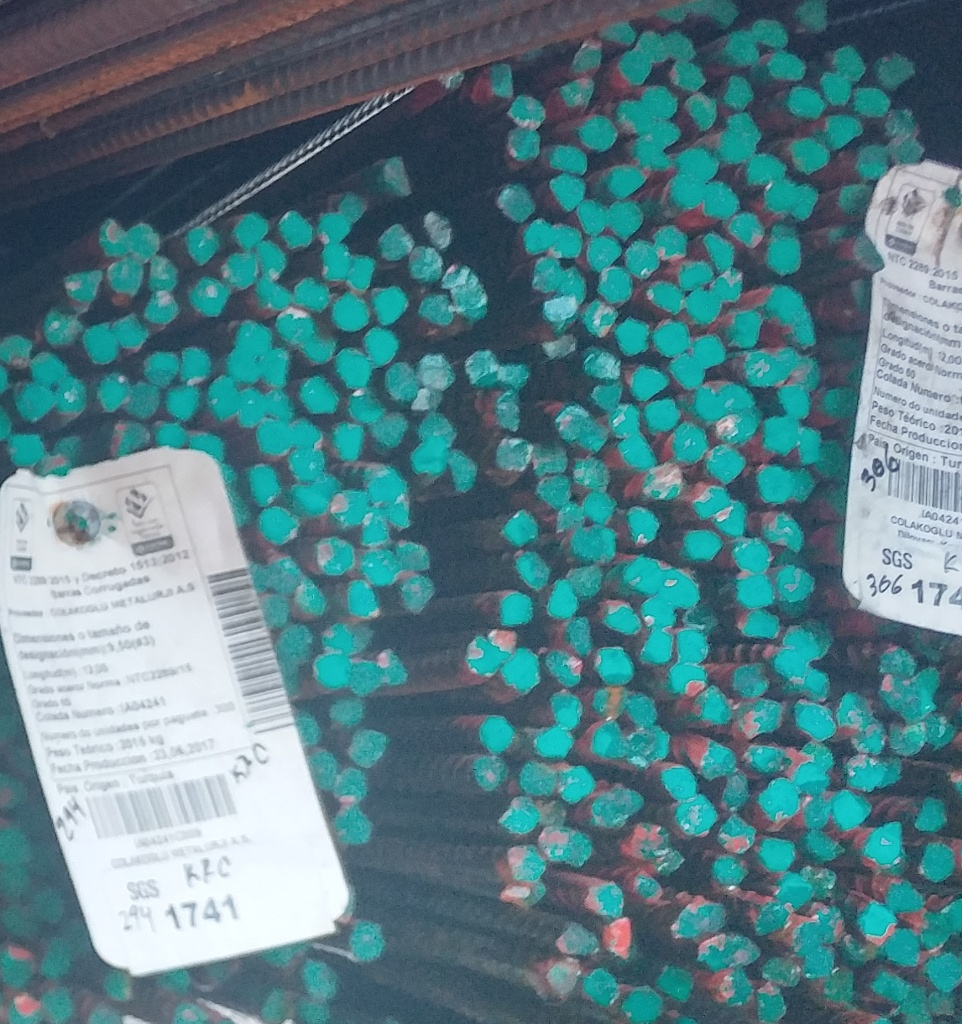dipstick: (313, 536, 359, 579), (861, 825, 903, 869), (654, 570, 702, 608), (674, 796, 718, 837), (912, 840, 954, 882), (377, 158, 418, 201), (626, 726, 672, 764), (758, 778, 800, 819), (622, 554, 662, 597), (255, 508, 298, 548), (761, 951, 804, 990), (1, 941, 38, 986), (345, 386, 386, 426), (885, 715, 926, 755), (843, 755, 884, 795), (829, 791, 869, 832), (573, 527, 615, 566), (589, 791, 628, 833), (464, 639, 502, 682), (301, 372, 339, 415), (599, 597, 642, 635), (658, 763, 698, 803), (707, 444, 746, 485), (530, 251, 568, 293), (717, 815, 759, 853), (670, 424, 707, 467), (740, 699, 784, 735), (547, 691, 586, 731), (837, 697, 876, 737), (733, 572, 774, 610), (276, 625, 314, 666), (286, 708, 321, 752), (584, 881, 623, 920), (302, 749, 341, 788), (361, 548, 401, 586), (289, 583, 327, 623), (358, 329, 398, 367), (186, 278, 227, 315), (794, 702, 836, 738), (926, 950, 962, 992), (23, 351, 73, 381), (81, 325, 119, 364), (376, 496, 414, 535), (508, 846, 547, 884), (372, 286, 411, 324), (759, 835, 797, 874), (285, 444, 325, 481), (502, 125, 543, 161), (13, 384, 55, 419), (668, 658, 706, 696), (343, 583, 381, 621), (49, 379, 87, 417), (572, 456, 611, 493), (593, 648, 632, 685), (64, 271, 103, 308), (397, 575, 436, 612), (688, 603, 727, 640), (333, 808, 373, 844), (28, 838, 64, 878), (686, 480, 726, 516), (512, 554, 552, 590), (412, 289, 452, 325), (488, 393, 523, 434), (763, 415, 800, 453), (503, 652, 541, 689), (346, 923, 383, 961), (1, 903, 38, 941), (497, 590, 535, 627), (504, 511, 542, 548), (912, 798, 949, 836), (749, 986, 787, 1023), (415, 438, 451, 477), (684, 524, 719, 564), (684, 91, 719, 131), (596, 269, 636, 304), (711, 775, 751, 810), (656, 965, 697, 999), (485, 59, 518, 101), (580, 301, 617, 338), (185, 228, 221, 266), (443, 454, 479, 492), (620, 433, 658, 469), (38, 940, 76, 976), (543, 962, 581, 998), (875, 53, 913, 89), (461, 352, 499, 388), (330, 423, 365, 462), (347, 731, 386, 766), (454, 284, 489, 323), (586, 965, 617, 1009), (507, 94, 547, 128), (588, 726, 628, 760), (709, 855, 749, 889), (567, 418, 608, 451), (616, 103, 657, 136), (849, 722, 890, 755), (323, 621, 365, 653), (719, 132, 761, 164), (291, 484, 327, 521), (334, 491, 370, 528), (885, 880, 921, 917), (106, 258, 143, 294), (857, 906, 895, 941), (302, 963, 340, 998), (626, 507, 661, 545), (628, 364, 666, 399), (757, 464, 792, 502), (364, 469, 403, 503), (557, 760, 591, 799), (752, 15, 791, 49), (19, 797, 53, 836), (644, 467, 683, 501), (417, 355, 456, 389), (1, 824, 32, 866), (258, 588, 289, 630), (126, 383, 162, 419), (372, 413, 408, 449), (820, 970, 856, 1006), (764, 237, 801, 272), (914, 912, 949, 949), (793, 136, 830, 171), (767, 512, 802, 549), (699, 688, 734, 725), (739, 351, 777, 385), (715, 967, 753, 1001), (825, 114, 864, 147), (41, 310, 80, 343), (621, 991, 660, 1024), (306, 324, 338, 364), (1, 862, 33, 902), (732, 537, 772, 569), (739, 609, 779, 641), (629, 822, 669, 854), (496, 438, 532, 473), (333, 295, 368, 331), (791, 86, 827, 121), (802, 863, 838, 898), (855, 145, 891, 180), (838, 182, 873, 218), (409, 250, 445, 285), (384, 361, 419, 397), (690, 333, 726, 368), (644, 395, 679, 431), (557, 923, 594, 957), (478, 718, 512, 755), (614, 318, 648, 355), (777, 565, 815, 598), (6, 434, 44, 467), (603, 167, 641, 200), (280, 213, 312, 252), (829, 49, 868, 81), (713, 499, 745, 538), (165, 385, 204, 417), (669, 59, 708, 91), (261, 346, 289, 390), (854, 235, 884, 276), (858, 609, 899, 639), (624, 240, 659, 275), (606, 918, 641, 953), (592, 686, 627, 721), (246, 468, 280, 504), (522, 760, 556, 796), (889, 134, 925, 168), (115, 317, 151, 351), (532, 797, 569, 830), (540, 828, 573, 865), (885, 929, 918, 966), (249, 242, 286, 275), (727, 215, 765, 247), (225, 349, 263, 381), (376, 230, 415, 261), (700, 744, 739, 775), (233, 322, 273, 352), (644, 282, 684, 312), (314, 656, 349, 690), (145, 292, 180, 326), (321, 250, 355, 285), (543, 291, 577, 326), (499, 187, 534, 221), (728, 313, 762, 348), (607, 399, 641, 434), (699, 936, 733, 971), (696, 1, 737, 30), (702, 232, 735, 268), (582, 493, 618, 526), (551, 146, 587, 179), (257, 424, 293, 457), (262, 988, 299, 1020), (535, 477, 572, 509), (395, 540, 432, 572), (469, 759, 507, 790), (871, 755, 909, 786), (792, 426, 822, 465), (765, 175, 795, 214), (111, 421, 151, 450), (900, 687, 934, 721), (548, 655, 583, 688), (854, 84, 889, 117), (60, 429, 93, 464), (96, 377, 129, 412), (703, 182, 736, 217), (656, 323, 689, 358), (673, 354, 708, 387), (641, 629, 673, 665), (206, 385, 238, 421), (256, 279, 292, 311), (677, 152, 718, 180), (748, 747, 789, 775), (736, 663, 767, 700), (584, 352, 621, 383), (314, 214, 348, 247), (332, 700, 365, 734), (589, 380, 623, 413), (349, 657, 381, 692), (536, 728, 571, 760), (726, 34, 758, 69), (222, 255, 257, 287), (668, 176, 703, 208), (609, 202, 644, 234), (710, 273, 745, 305), (531, 444, 567, 475), (771, 652, 807, 683), (147, 349, 178, 385), (336, 768, 367, 804), (794, 765, 831, 795), (562, 72, 591, 110), (816, 526, 845, 564), (909, 626, 951, 652), (797, 798, 830, 831), (9, 991, 42, 1024), (182, 348, 215, 381), (576, 201, 609, 234), (619, 52, 653, 84), (645, 86, 679, 118), (341, 353, 372, 388), (800, 620, 835, 651), (823, 574, 854, 609), (1, 337, 37, 367), (744, 155, 784, 182), (335, 195, 372, 224), (551, 227, 583, 260), (297, 280, 329, 313), (805, 949, 837, 982), (269, 558, 302, 590), (581, 118, 613, 151), (672, 907, 706, 938), (797, 4, 831, 35), (564, 621, 594, 656), (148, 259, 178, 294), (242, 560, 272, 595), (235, 390, 265, 425), (417, 412, 453, 441), (726, 76, 755, 112), (626, 876, 662, 905), (66, 913, 94, 950), (804, 834, 841, 862), (570, 566, 602, 598), (689, 291, 721, 323), (98, 222, 129, 255), (233, 216, 266, 247), (757, 904, 790, 935), (12, 740, 43, 773), (43, 987, 74, 1020), (344, 260, 377, 291), (901, 991, 935, 1021), (676, 263, 711, 292), (689, 385, 718, 420), (817, 441, 845, 477), (822, 74, 853, 106), (768, 290, 801, 320), (882, 108, 915, 138), (501, 799, 534, 829), (630, 136, 663, 166), (125, 225, 159, 254), (523, 224, 557, 253), (34, 890, 68, 919), (550, 584, 578, 619), (600, 20, 639, 45), (1, 771, 28, 807), (657, 226, 688, 257), (675, 631, 706, 662), (778, 876, 809, 907), (571, 461, 611, 485), (846, 942, 878, 972), (444, 265, 476, 295), (102, 972, 135, 1001), (633, 33, 666, 62), (788, 468, 815, 503), (641, 600, 677, 626), (824, 390, 856, 419), (426, 214, 454, 247), (782, 631, 816, 658), (781, 384, 808, 418), (822, 488, 849, 522), (926, 715, 953, 749), (879, 649, 914, 675), (568, 41, 594, 76), (157, 966, 192, 992), (796, 924, 826, 954), (767, 53, 803, 78), (292, 421, 323, 450), (588, 240, 620, 268), (797, 184, 825, 216), (564, 830, 591, 863), (721, 384, 754, 411), (873, 972, 908, 997), (726, 115, 761, 140), (798, 670, 829, 698), (545, 336, 577, 363), (187, 435, 223, 459), (262, 390, 294, 417), (507, 884, 548, 905), (626, 696, 659, 722), (493, 363, 530, 386), (297, 999, 331, 1024), (381, 655, 409, 685), (798, 358, 825, 389), (357, 520, 390, 545), (208, 956, 241, 981), (655, 849, 686, 875), (781, 594, 816, 617), (928, 991, 956, 1019), (559, 510, 587, 538), (155, 424, 189, 447), (913, 665, 943, 691), (820, 910, 846, 940), (664, 33, 695, 58), (280, 662, 301, 698), (884, 679, 912, 706), (438, 69, 466, 96), (553, 180, 583, 205), (613, 788, 644, 812), (264, 944, 303, 963), (805, 740, 834, 765), (409, 386, 440, 409), (701, 901, 726, 929), (772, 348, 797, 375), (795, 313, 816, 345), (1, 714, 19, 751), (855, 285, 874, 320), (312, 479, 341, 501), (737, 937, 760, 964), (780, 548, 810, 568), (175, 1007, 208, 1024), (652, 124, 681, 143), (555, 403, 587, 420), (658, 8, 689, 25), (88, 1006, 117, 1024), (825, 224, 844, 251), (34, 460, 66, 476), (493, 631, 518, 650), (943, 901, 955, 938), (220, 466, 239, 489), (851, 365, 869, 386), (1, 410, 13, 441), (952, 769, 962, 797), (1, 371, 13, 390)
